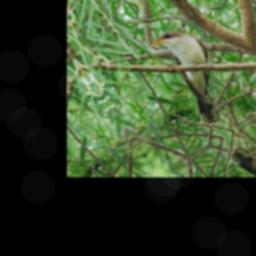Cuckoo: (144, 19, 247, 129)
